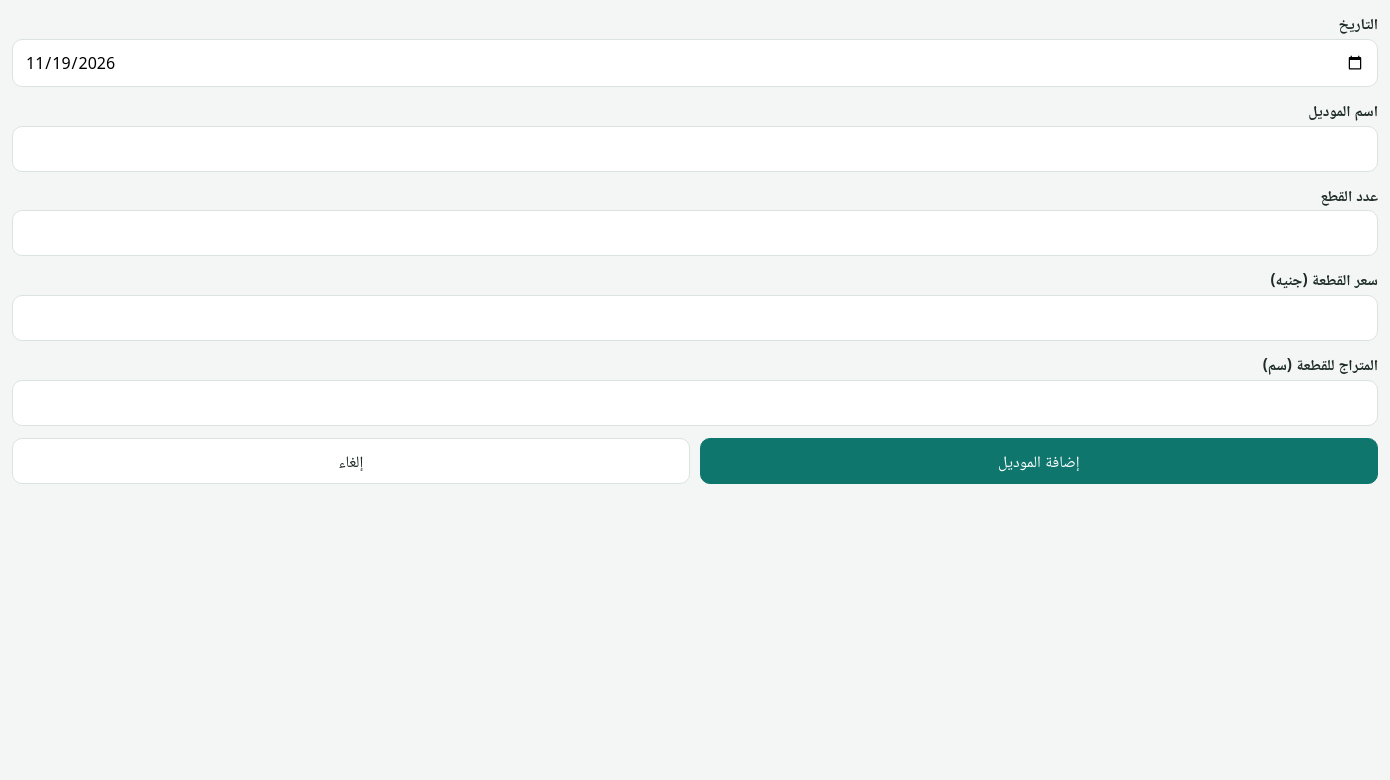
Test: ModelForm › shows an error and lets the user retry when saving fails
Type "2026-10-01" into the date field labelled "التاريخ" at (695, 63), box [12,39,1378,87]
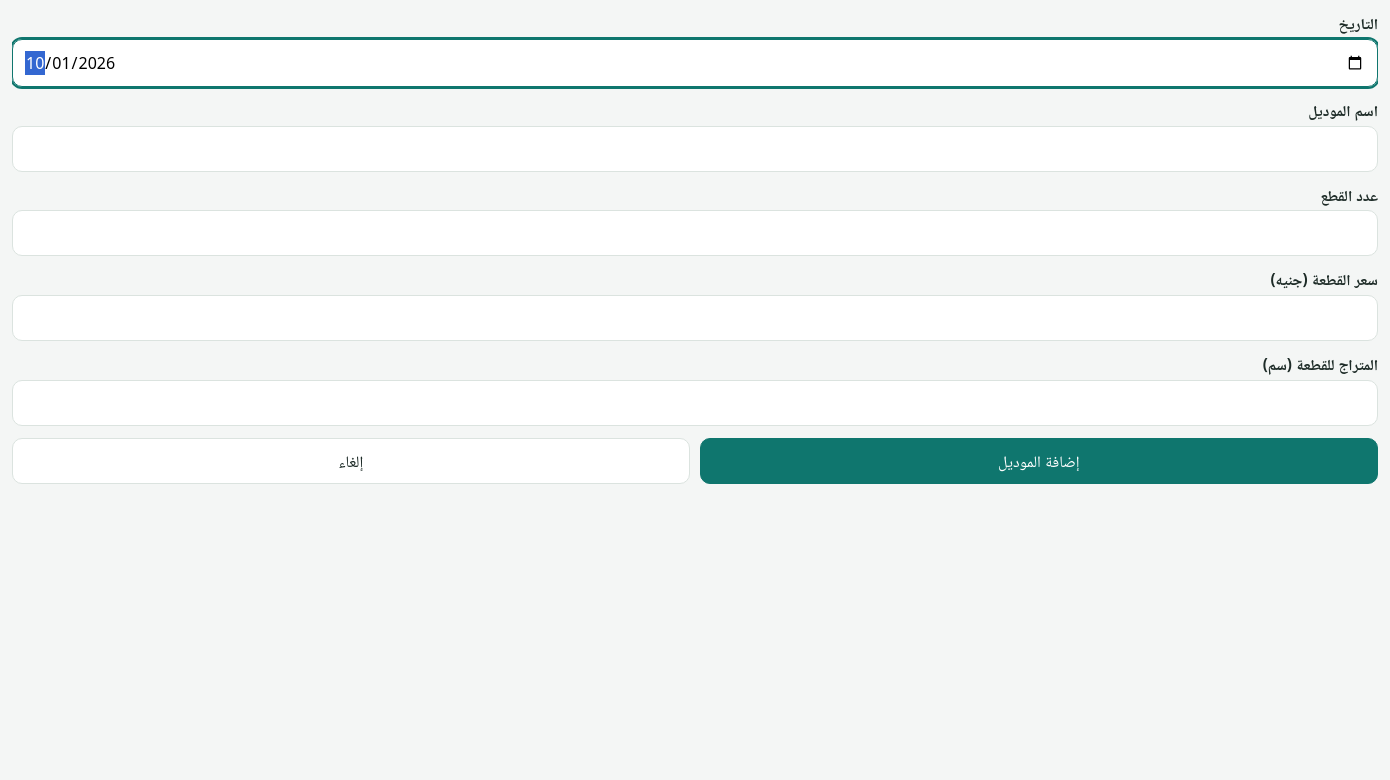
Type "بنطلون" into the field labelled "اسم الموديل" at (695, 149), box [12,126,1378,172]
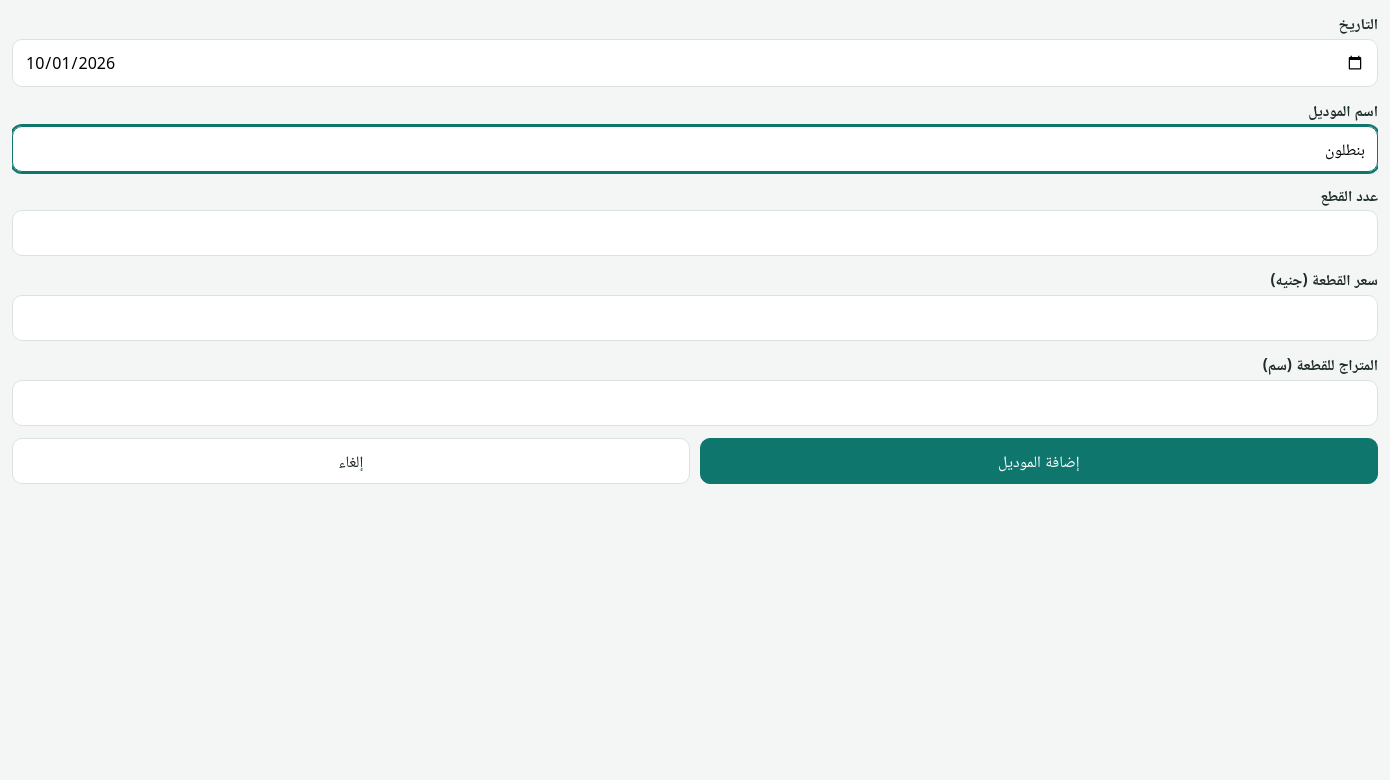
Type "10" into the number field labelled "عدد القطع" at (695, 233), box [12,210,1378,256]
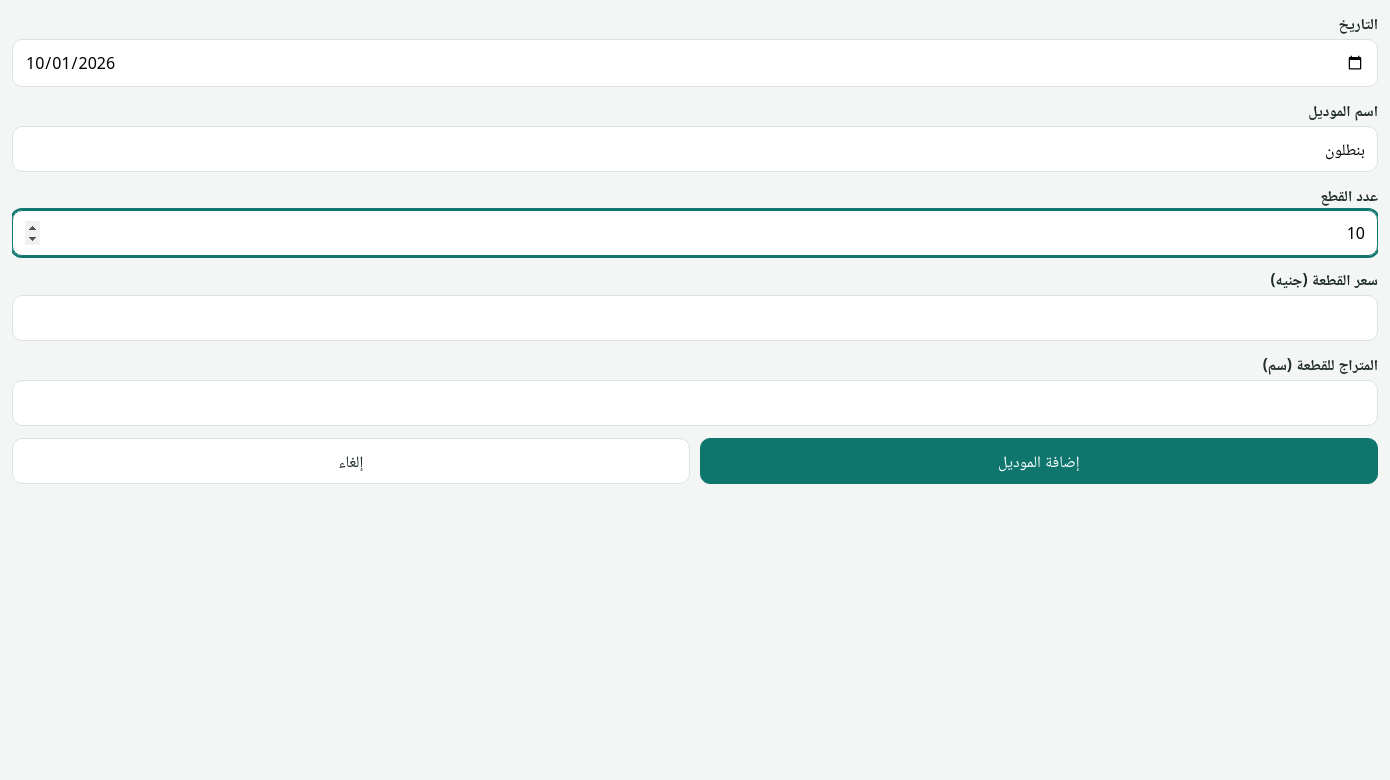
Type "50" into the number field labelled "سعر القطعة (جنيه)" at (695, 318), box [12,295,1378,341]
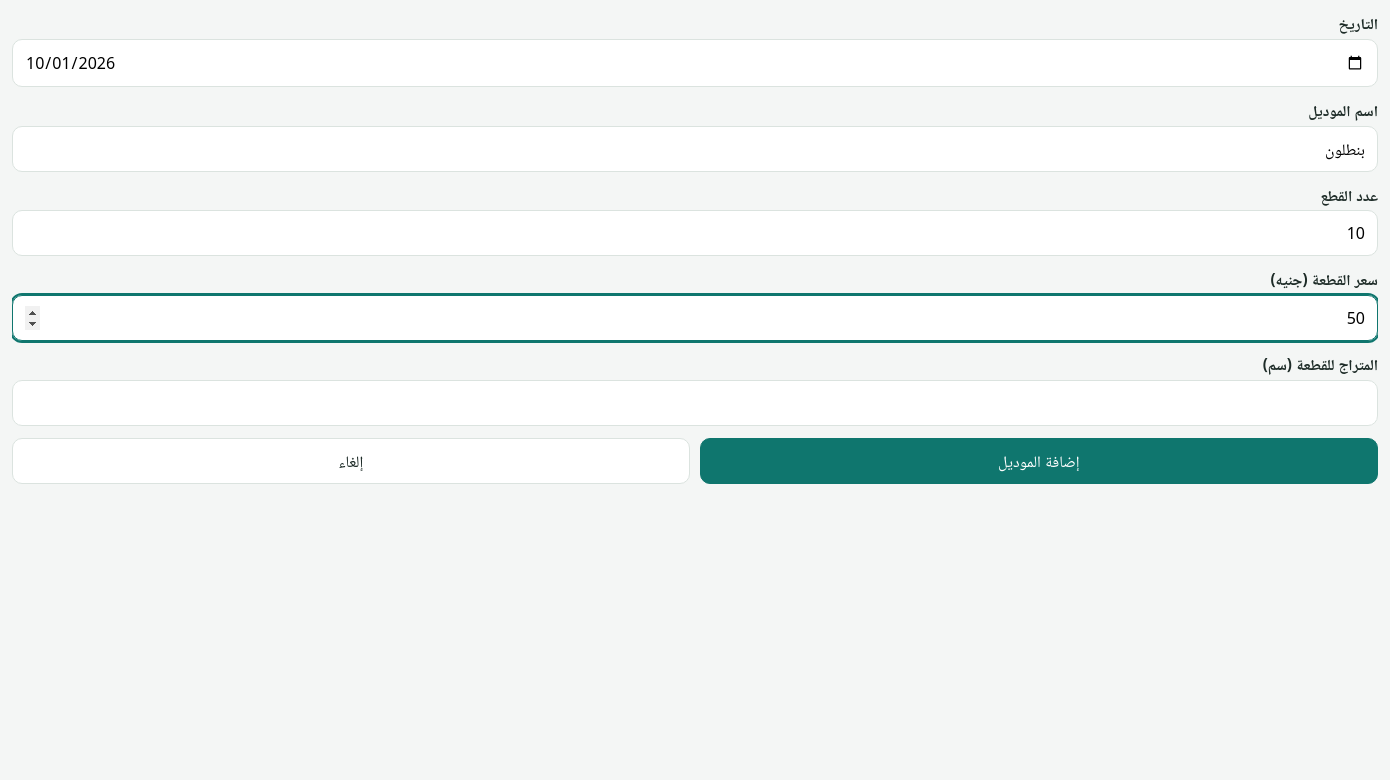
Type "100" into the number field labelled "المتراج للقطعة (سم)" at (695, 403), box [12,380,1378,426]
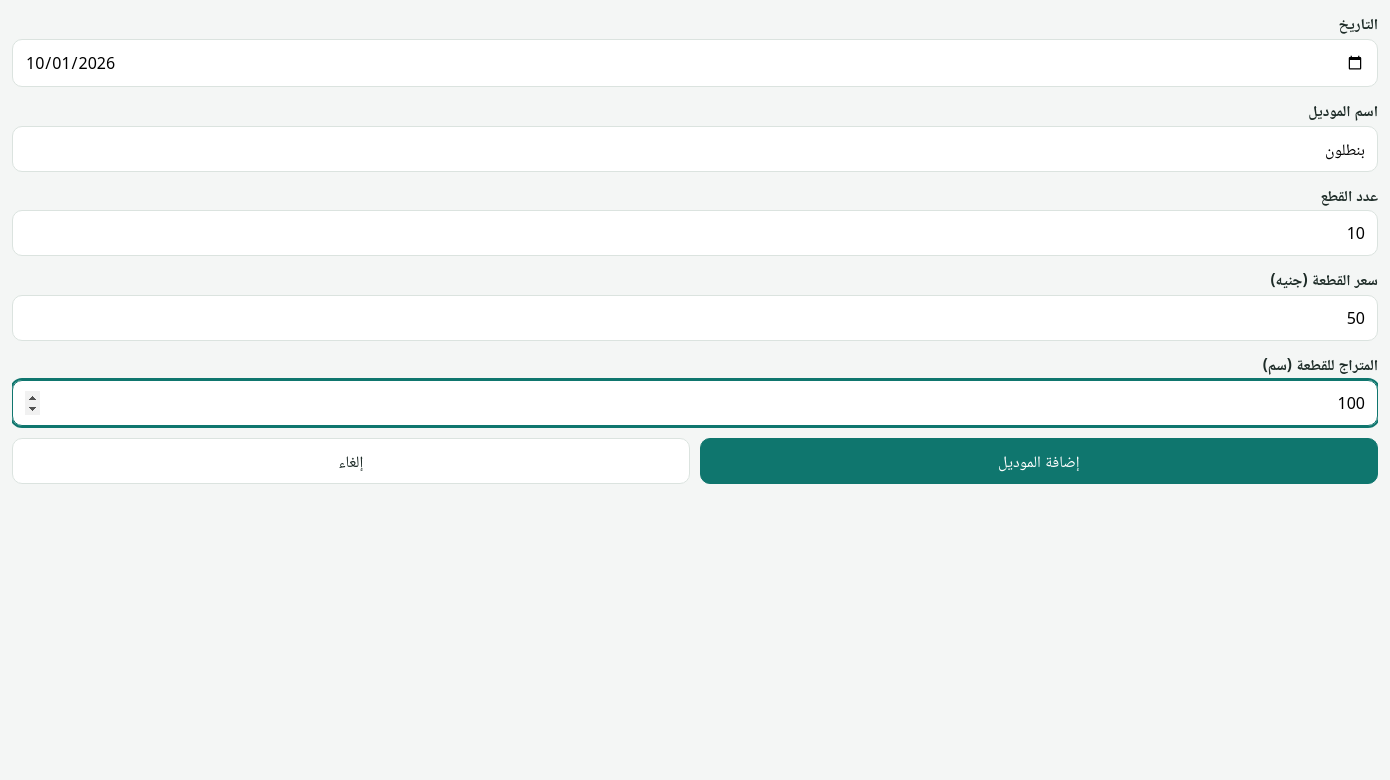
Click the button "إضافة الموديل" at (1039, 461), box [700,438,1378,484]
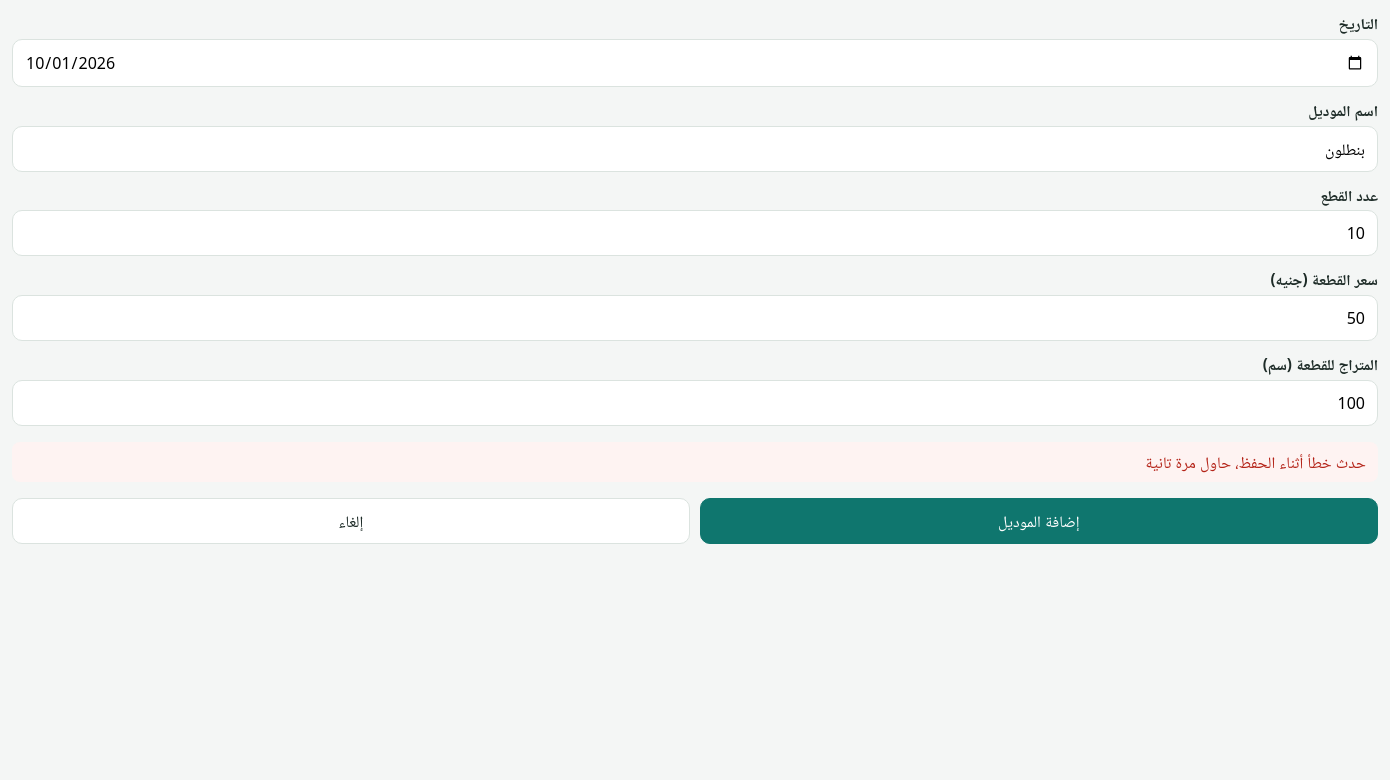
expect the button "إضافة الموديل" is enabled: met, box [700,498,1378,544]
expect the text "حدث خطأ أثناء الحفظ، حاول مرة تانية" is shown: met, box [12,442,1378,482]
